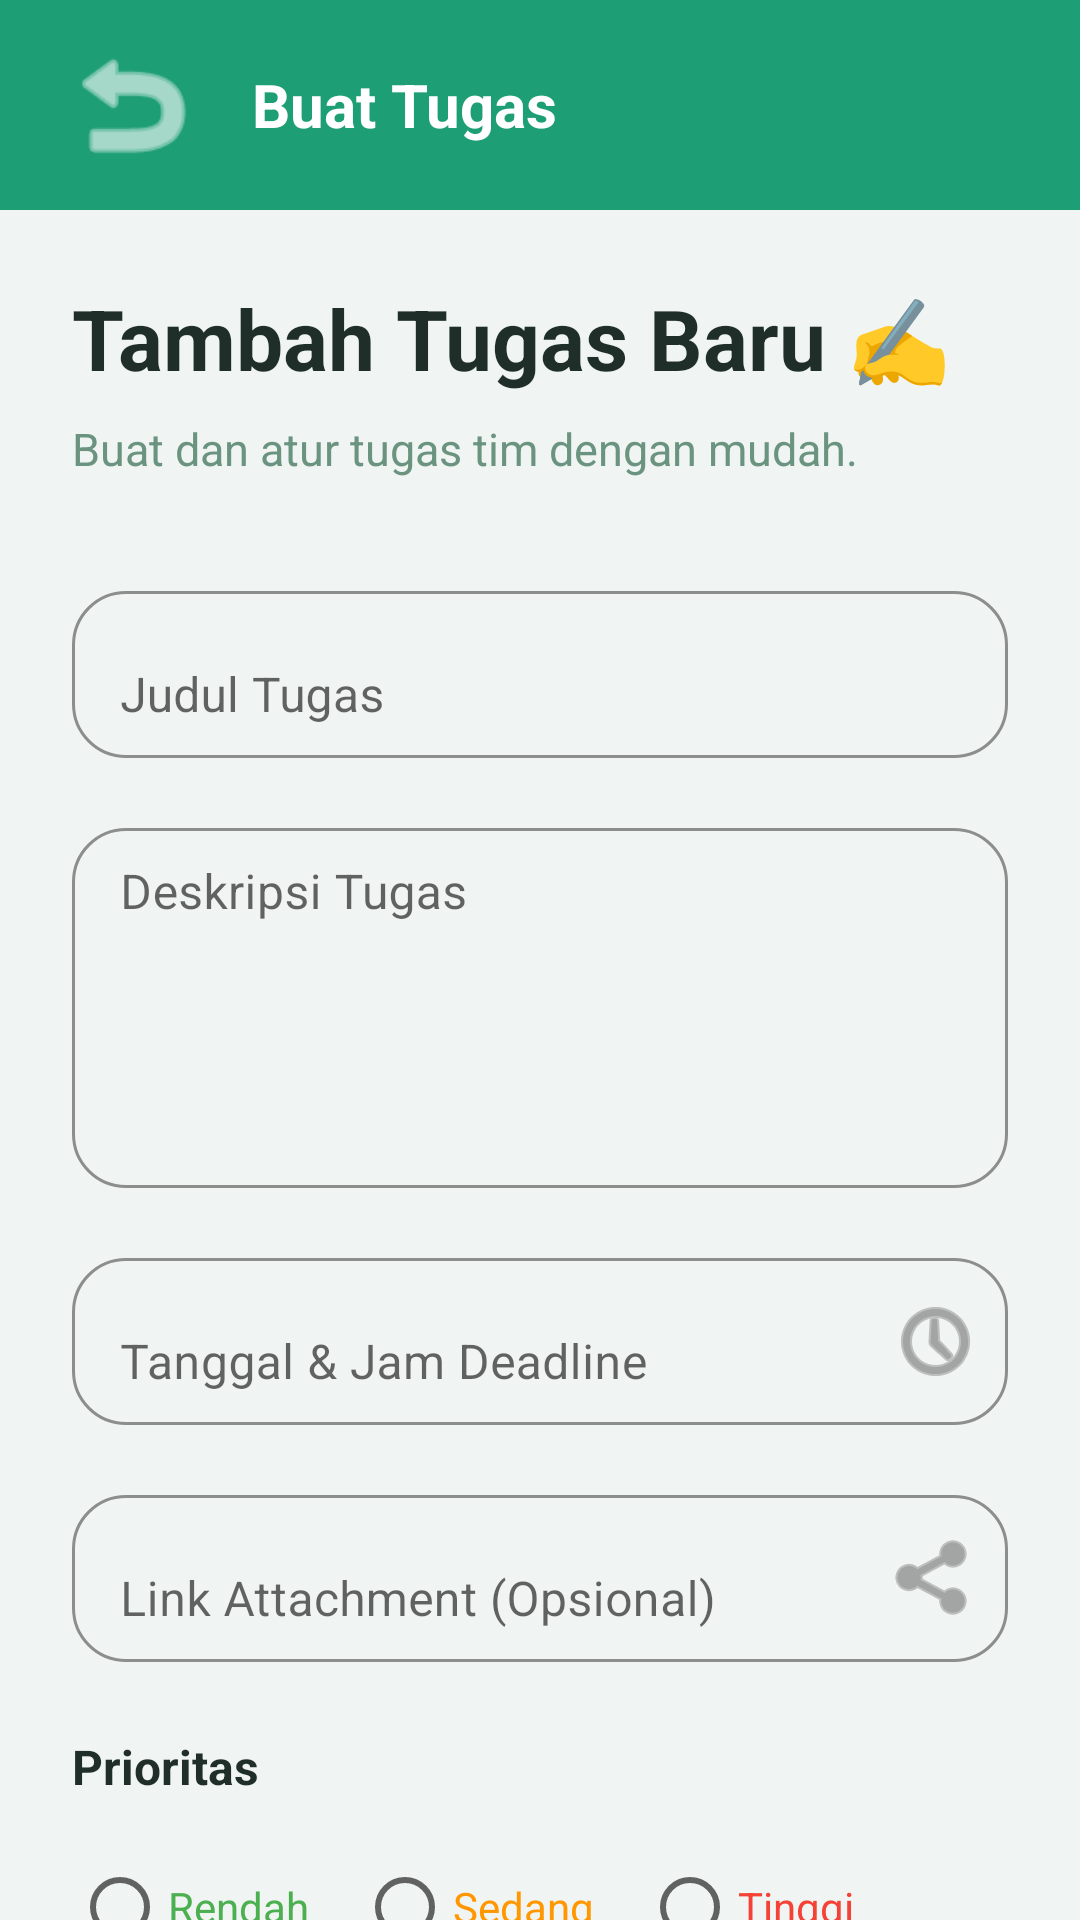

Named icons in this screenshot (1080px x 1920px) and their bounding boxes, (x1,y1,x2,y2):
Kembali: (82,59,186,153)
